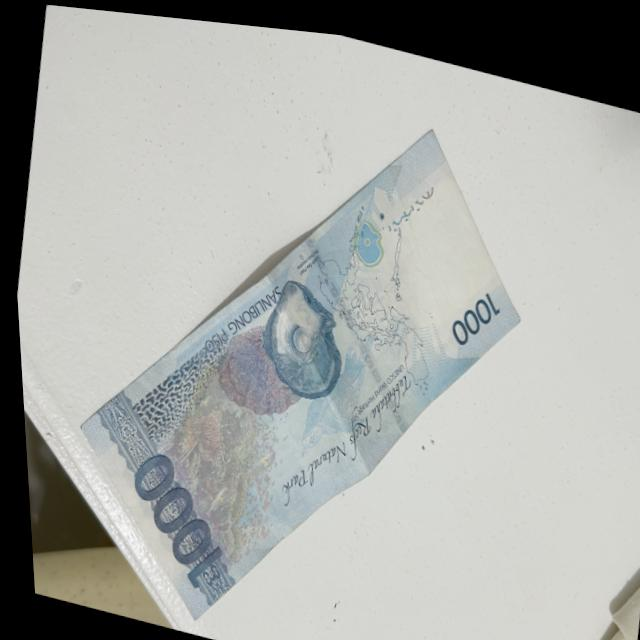1000_pearl: (250, 279, 348, 403)
1000_pearl_watermark: (344, 210, 383, 267)
watermark: (391, 184, 494, 328)
